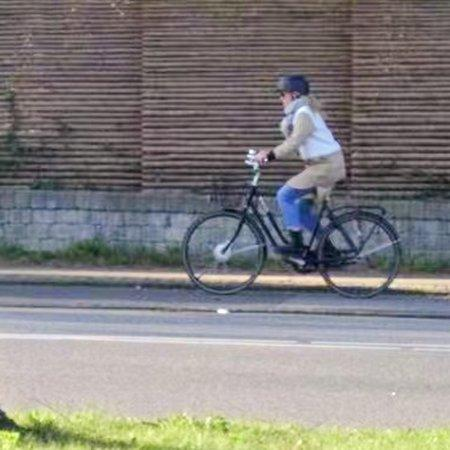bicycles: (183, 151, 296, 294), (303, 202, 398, 297)
